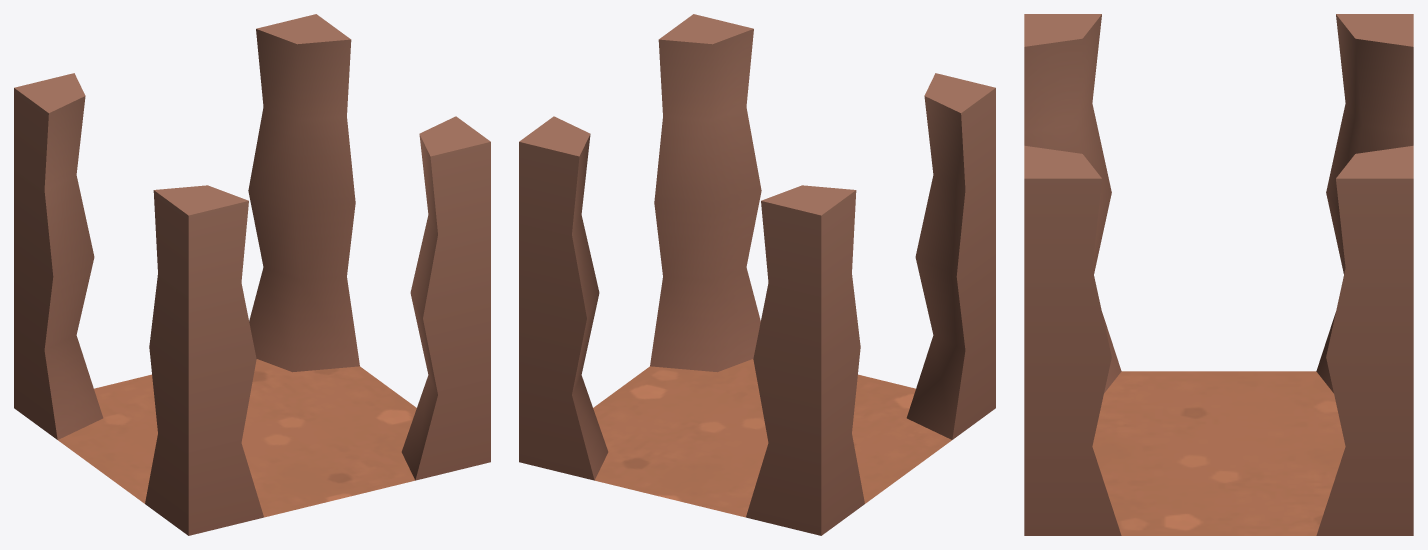
The model's file is corridor-intersection.glb.
3 renders of one model, left to right at view 1: azimuth 30°, elevation 25°; view 2: azimuth 150°, elevation 25°; view 3: azimuth 270°, elevation 25°, orthographic. The views are drawn at different scales.
Visible parts, largest first — view 1: corridor-intersection; view 2: corridor-intersection; view 3: corridor-intersection.
Boxes of the visible parts, x1,y1,x2,y2 form: corridor-intersection: (14,14,490,535); corridor-intersection: (519,14,995,535); corridor-intersection: (1024,14,1413,535).
Bounding box in the file's own units: 4 × 4.05 × 4.
1 material, 1 textured.
